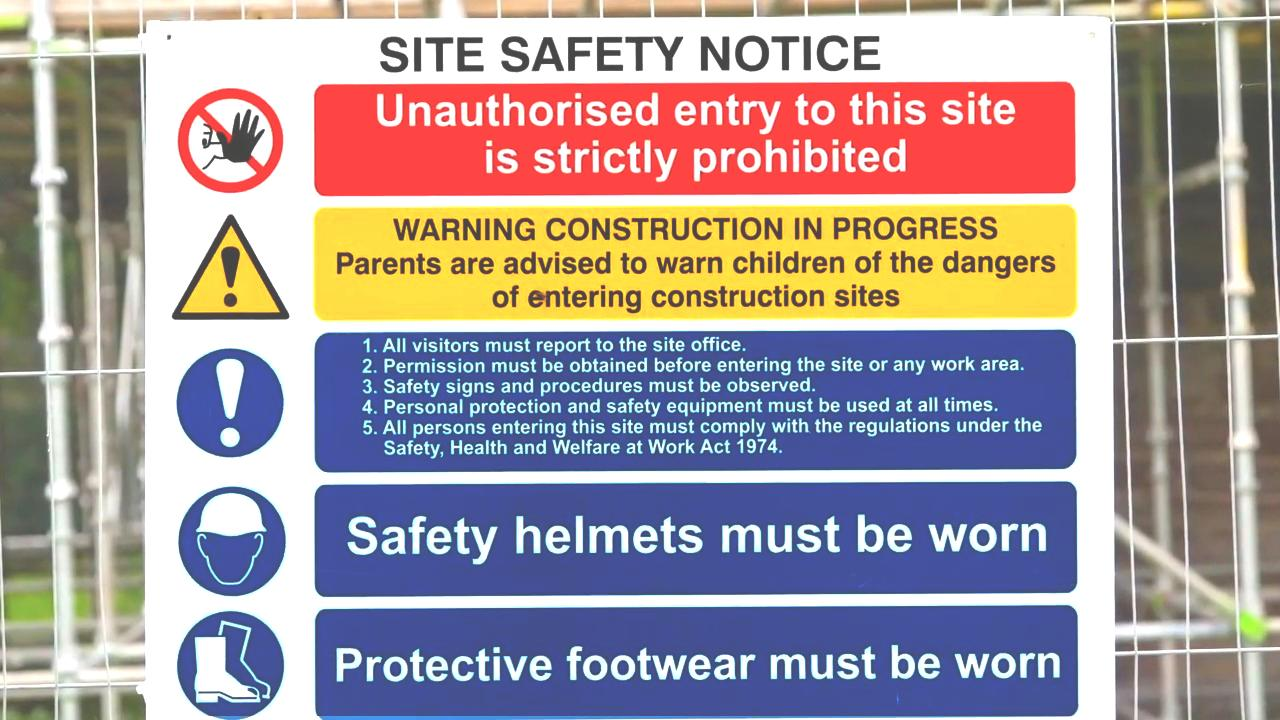safety_signage: (161, 20, 1096, 716)
